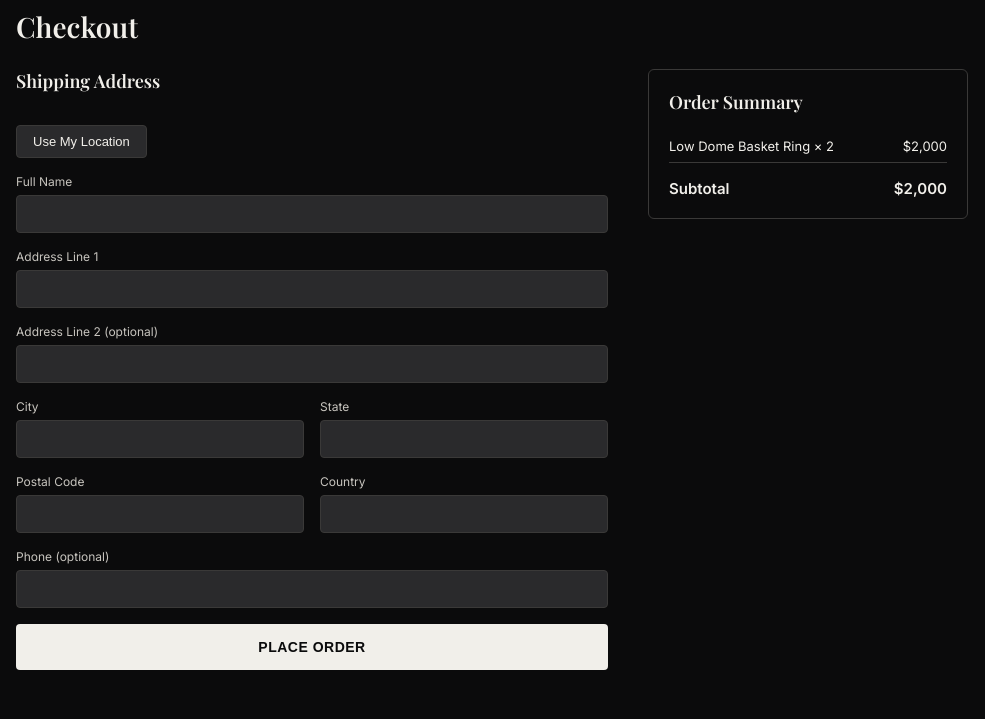
CheckoutPage › shows an error message when the order fails to place
This screenshot has width=985, height=719.
Expected: the text "Low Dome Basket Ring" is shown, [669, 138, 810, 154]
In the field labelled "Full Name": (312, 214) [16, 195, 608, 233], type "Ada Lovelace"
In the field labelled "Address Line 1": (312, 289) [16, 270, 608, 308], type "123 Main St"
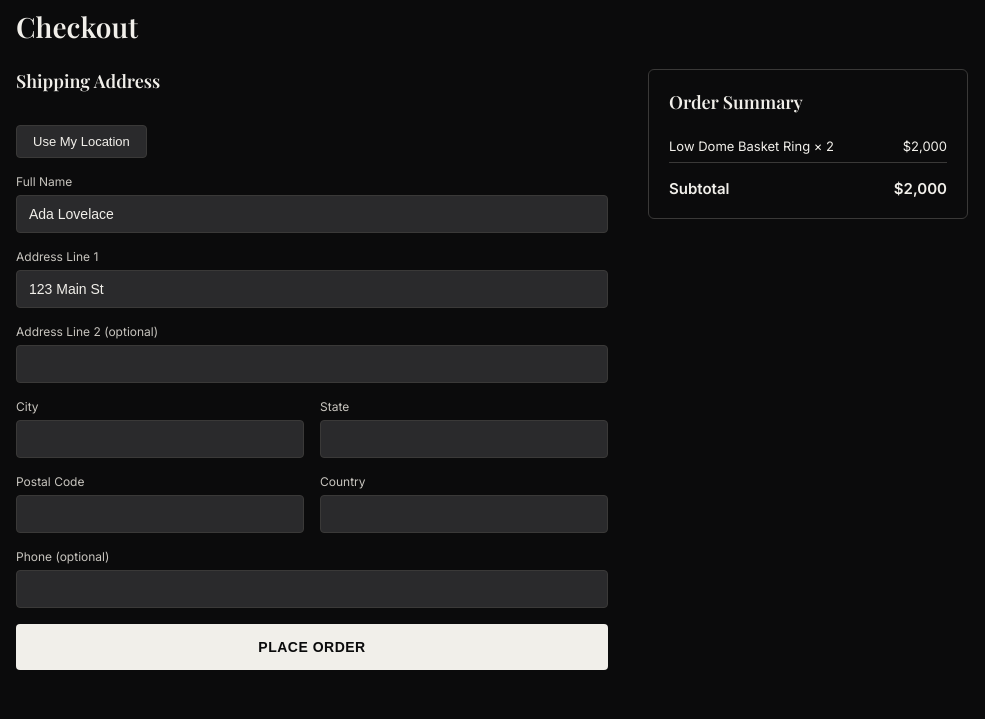
In the field labelled "City": (160, 439) [16, 420, 304, 458], type "London"
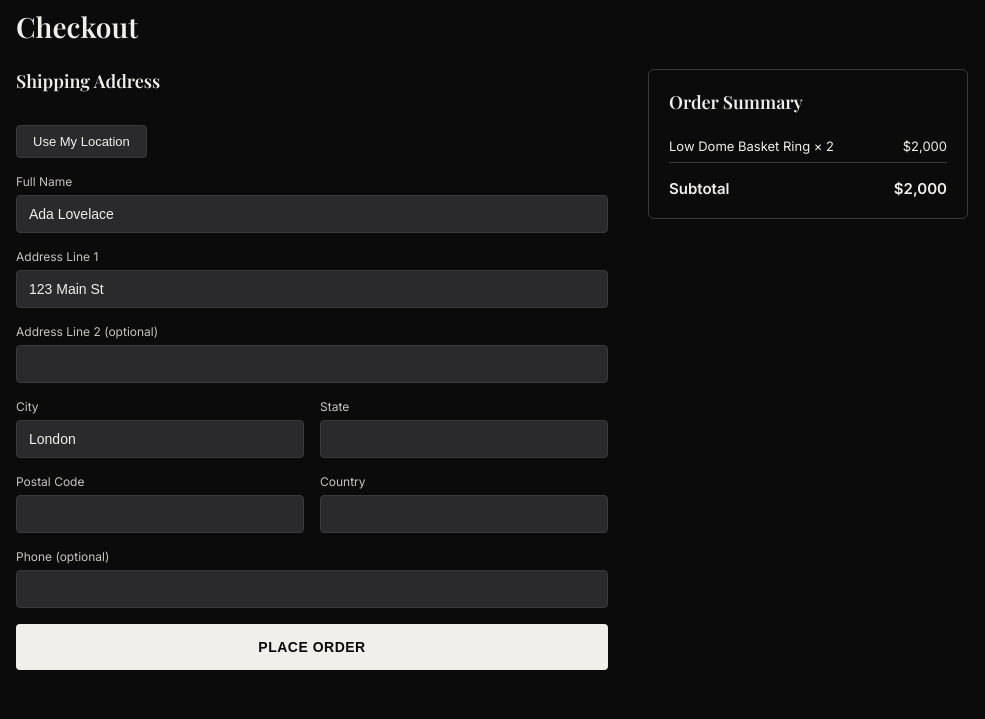
In the field labelled "State": (464, 439) [320, 420, 608, 458], type "England"
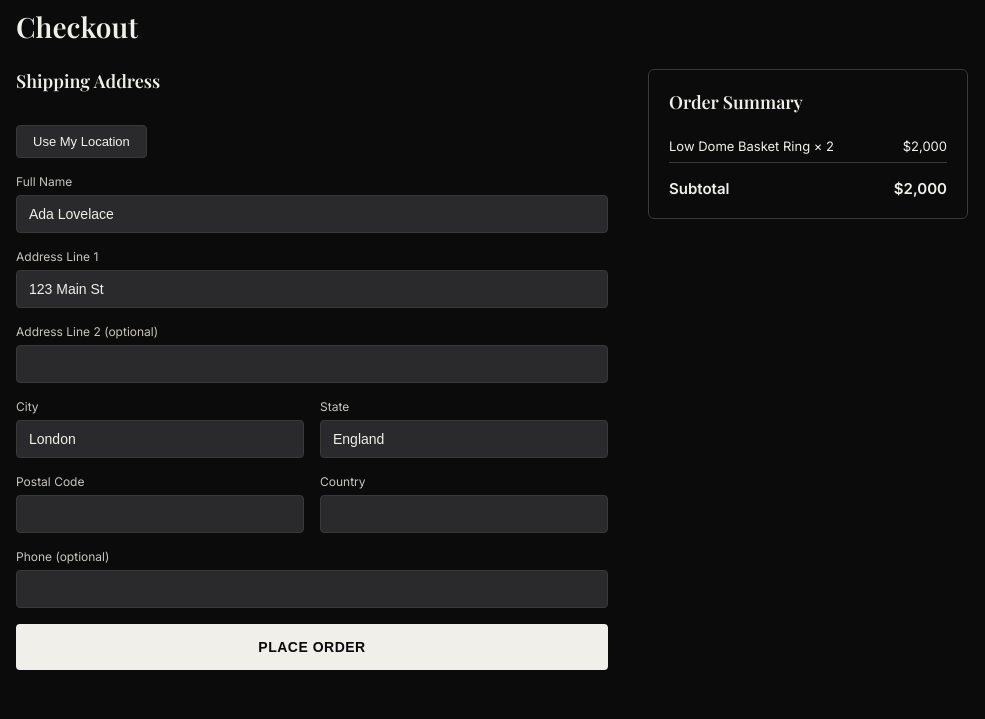
In the field labelled "Postal Code": (160, 514) [16, 495, 304, 533], type "SW1A 1AA"
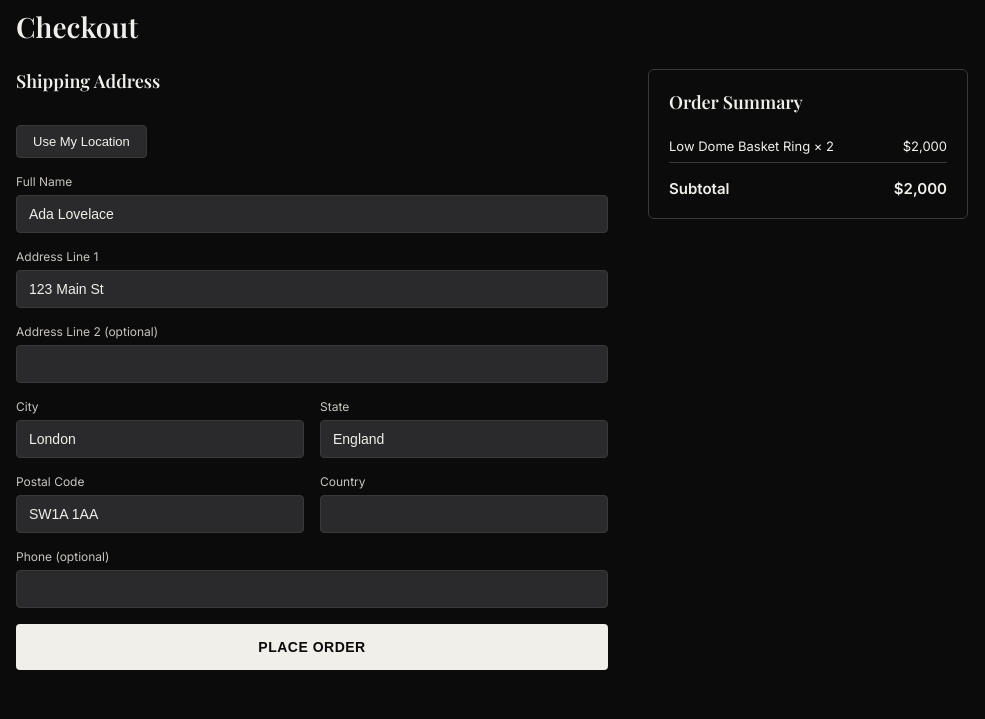
In the field labelled "Country": (464, 514) [320, 495, 608, 533], type "United Kingdom"
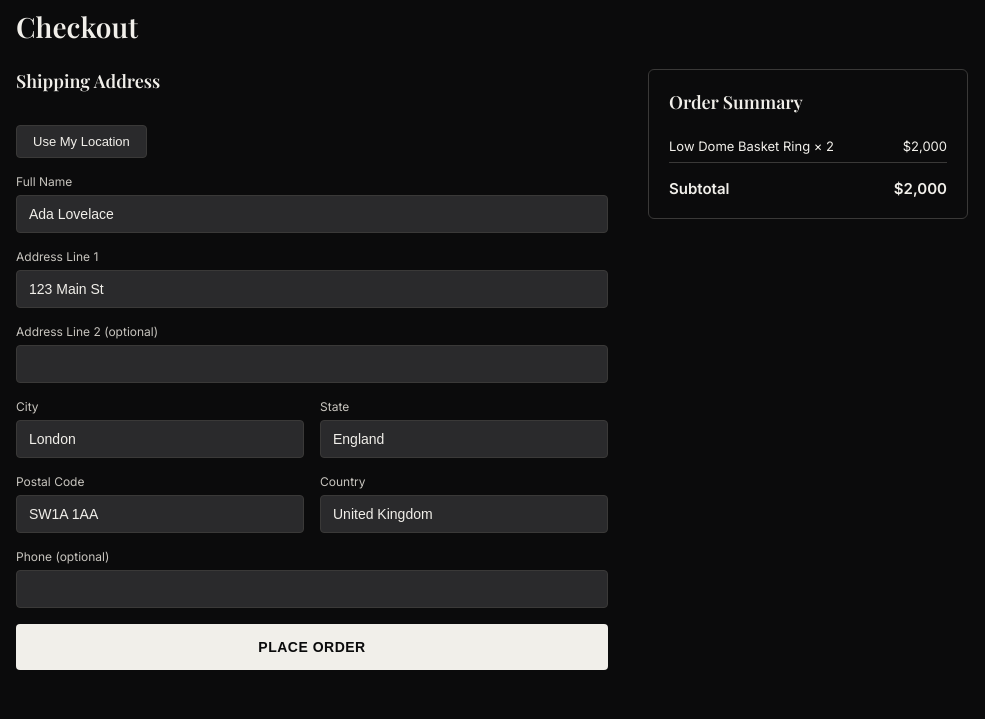
Click the button "Place Order": (312, 647) [16, 624, 608, 670]
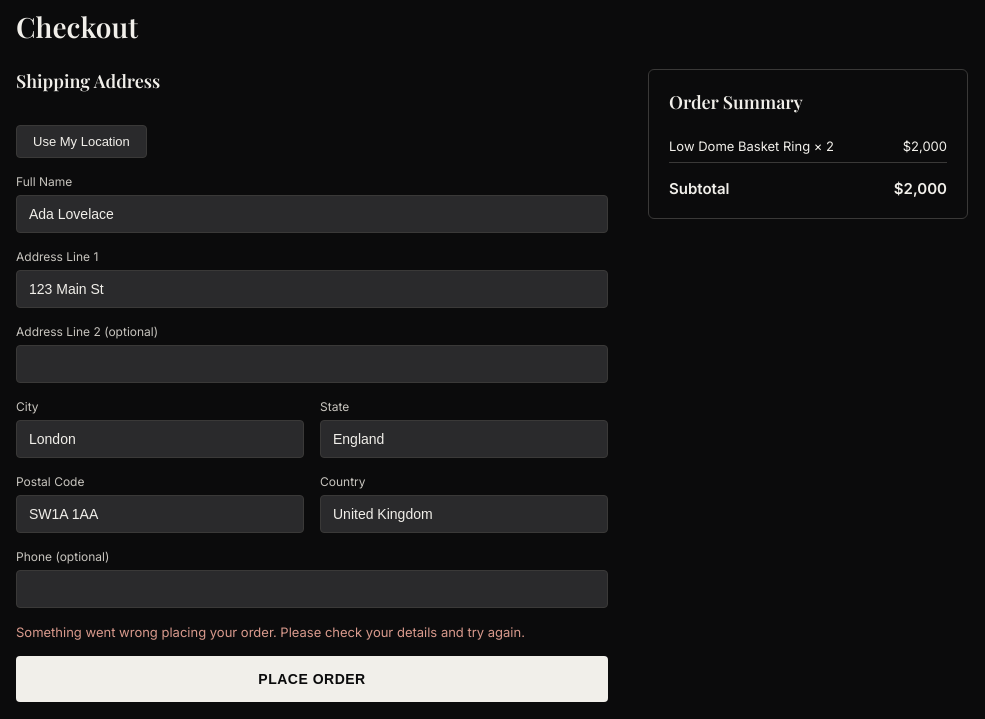
Result: the text "Something went wrong placing your order" is shown at [16, 624, 525, 640]
